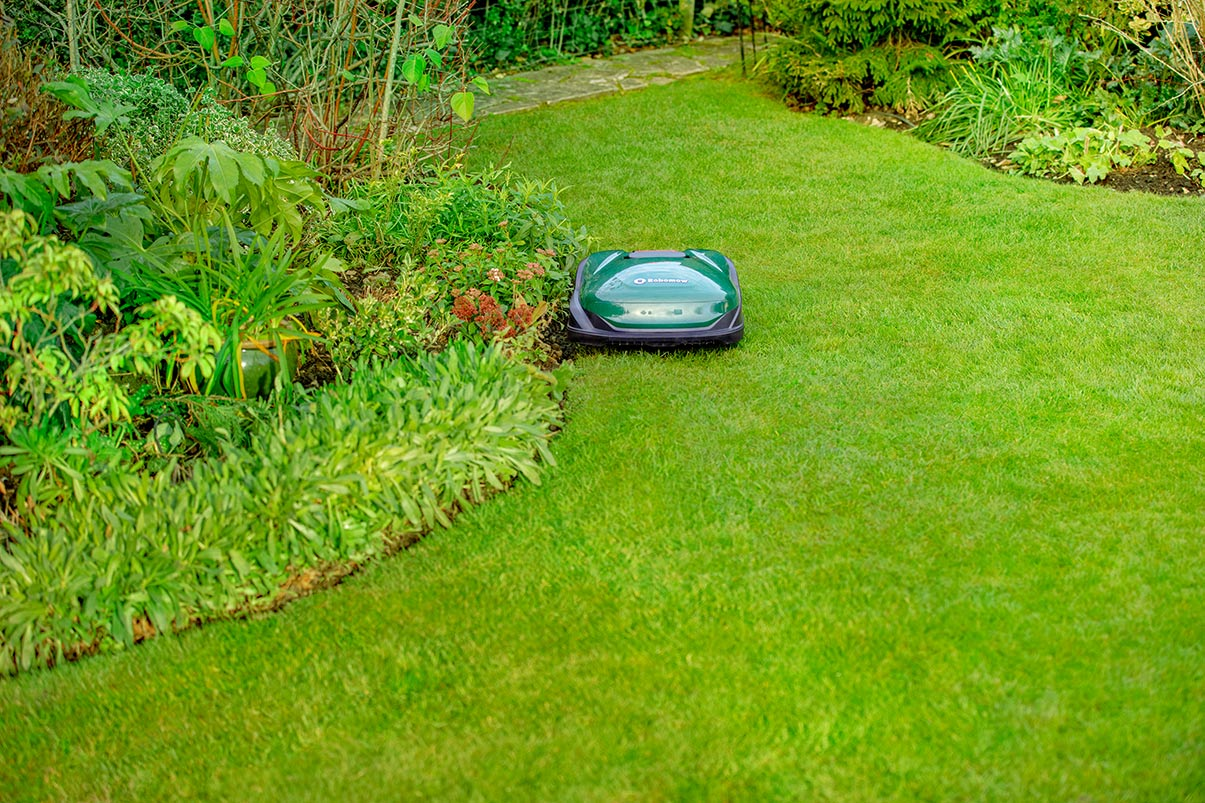grass: (574, 357, 1205, 803)
